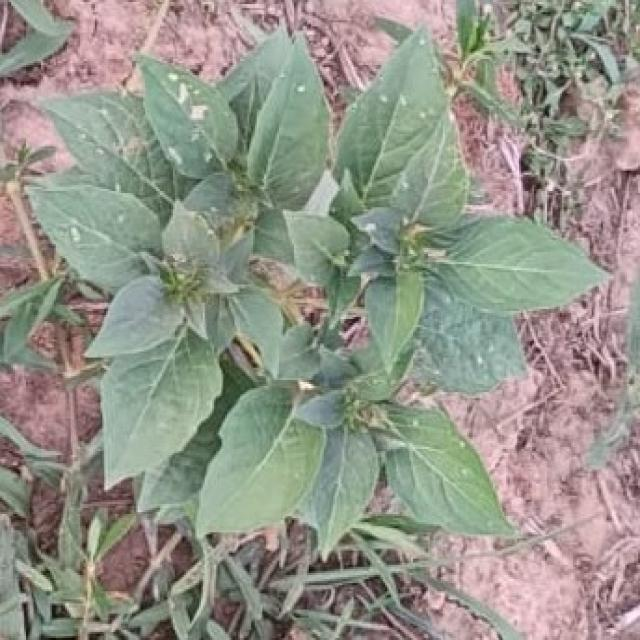weed: (32, 28, 607, 639)
